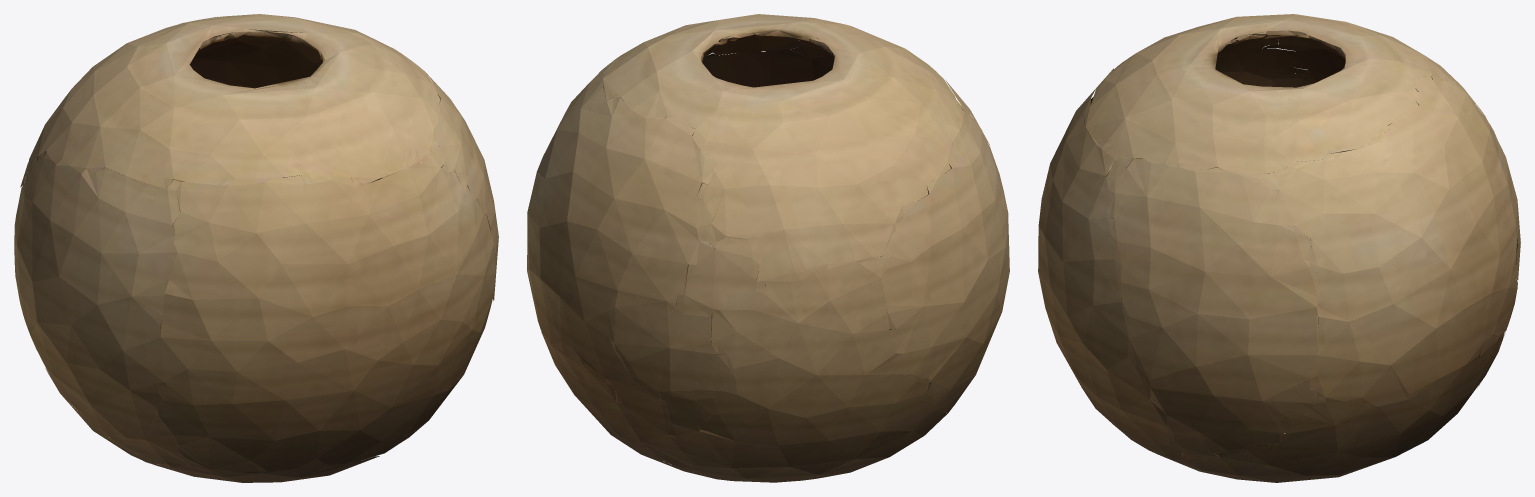
File: j-sphere-bois.glb
The picture shows the model from 3 angles, left to right: view 1: azimuth 30°, elevation 25°; view 2: azimuth 150°, elevation 25°; view 3: azimuth 270°, elevation 25°; orthographic projection.
Visible parts, largest first — view 1: geometry_0; view 2: geometry_0; view 3: geometry_0.
Boxes of the visible parts, x1,y1,x2,y2 form: geometry_0: (14,14,498,482); geometry_0: (527,14,1009,482); geometry_0: (1038,14,1520,482).
Bounding box in the file's own units: 0.9981 × 0.8591 × 0.9976.
Materials: 1 (1 with a texture image).
